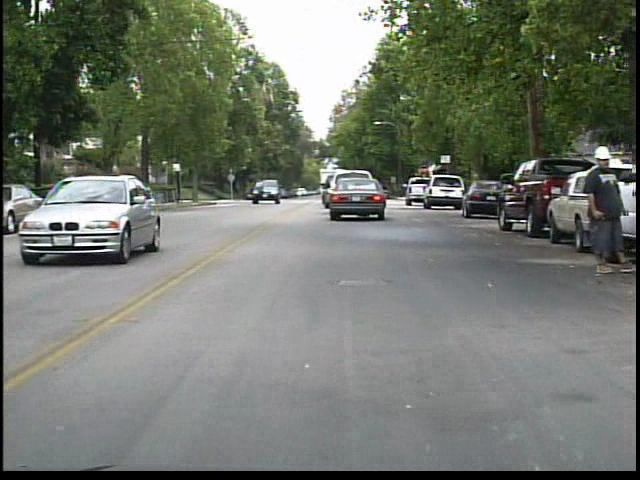person: (577, 143, 634, 276)
